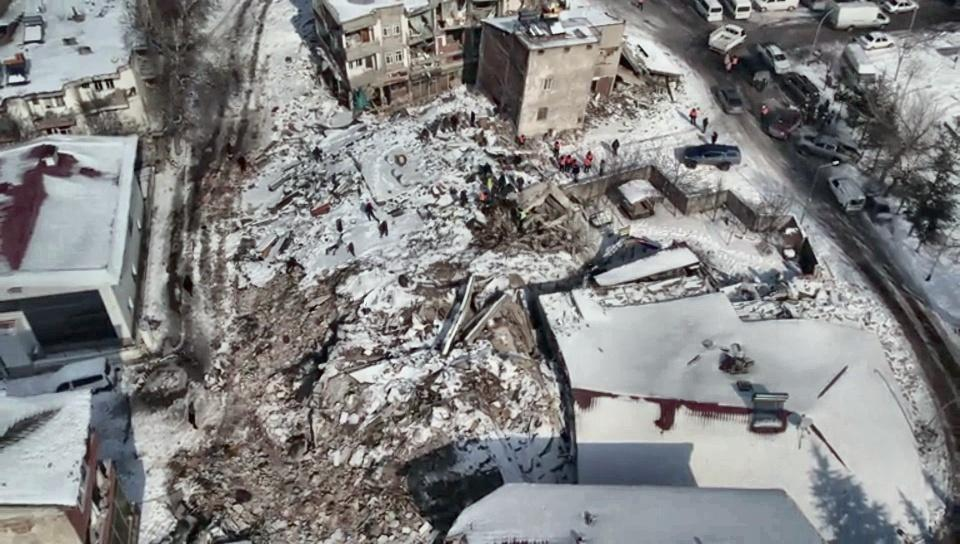kapali: (134, 190, 270, 543)
